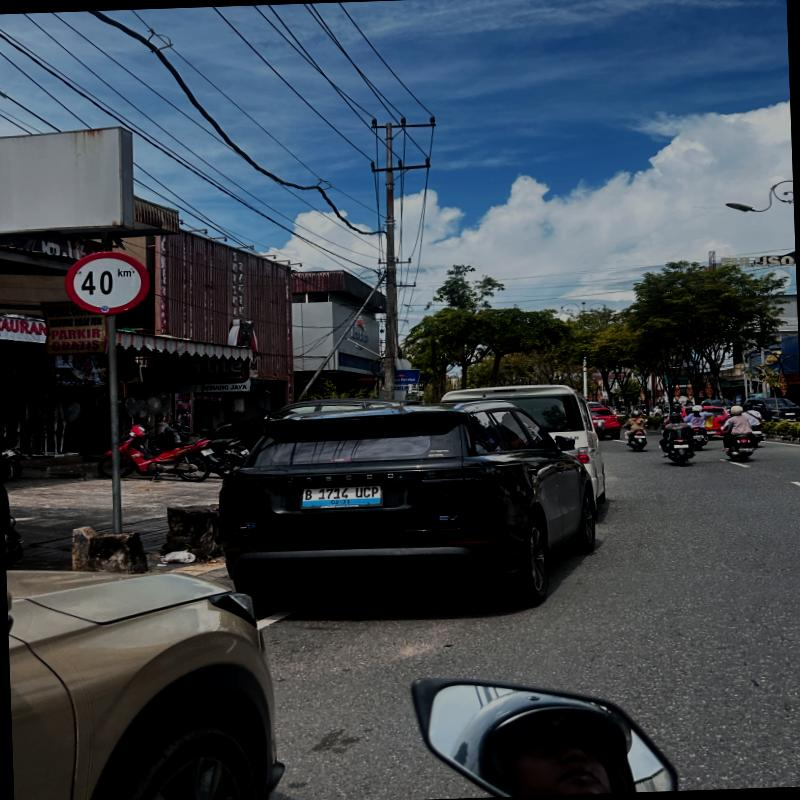license plate on a car: (301, 485, 383, 505)
